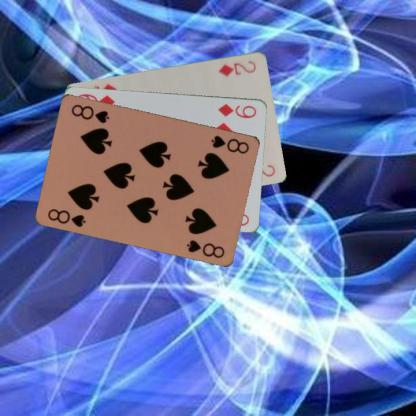2d: (216, 58, 258, 78)
8s: (208, 132, 250, 155), (45, 206, 87, 228)
9d: (216, 100, 258, 119)
